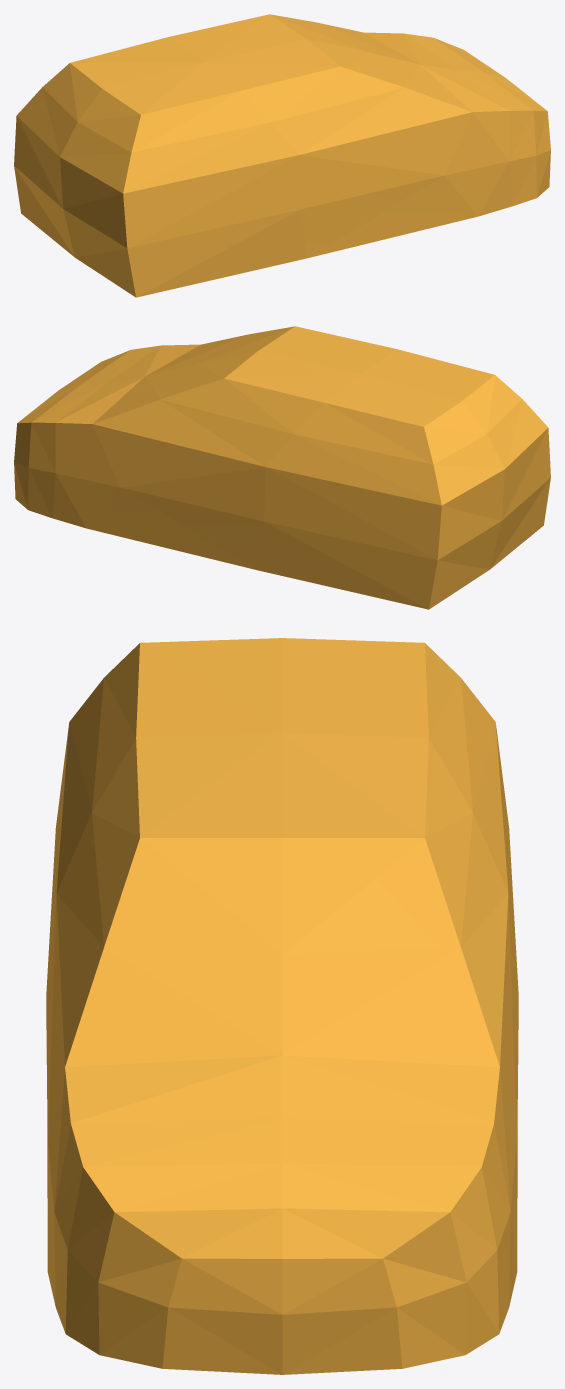
The model's file is car.glb.
3 views of the same model, one above another, from view 1: azimuth 30°, elevation 25°; view 2: azimuth 150°, elevation 25°; view 3: azimuth 270°, elevation 25° (orthographic). The views are drawn at different scales.
Parts seen in each view (by area): view 1: car_small; view 2: car_small; view 3: car_small.
Boxes of the visible parts, x1,y1,x2,y2 form: car_small: (14,14,550,297); car_small: (14,326,550,609); car_small: (46,638,518,1374).
Size of the model in its own units: 3.91 by 1.34 by 1.72.
